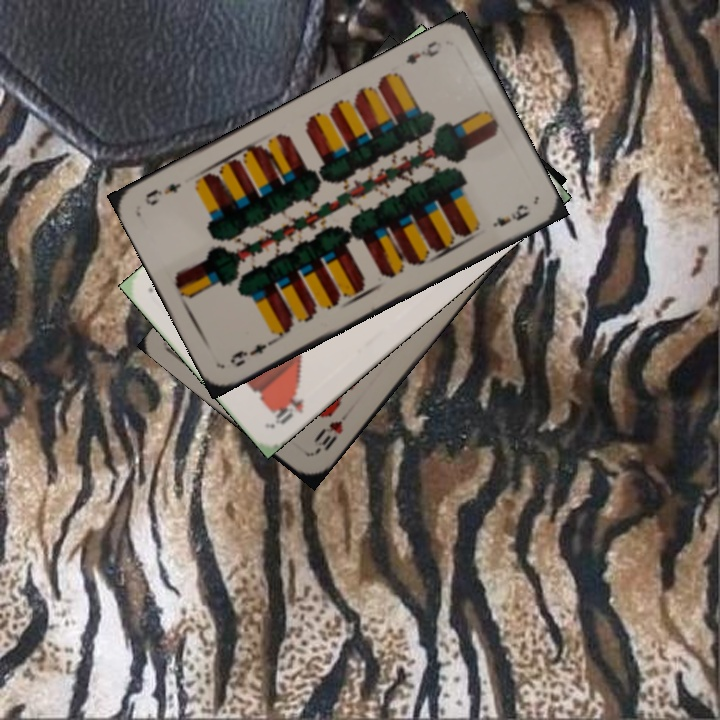E9: (226, 334, 278, 370), (402, 36, 442, 67)
H10: (309, 416, 346, 458)
HO: (269, 388, 308, 428)
